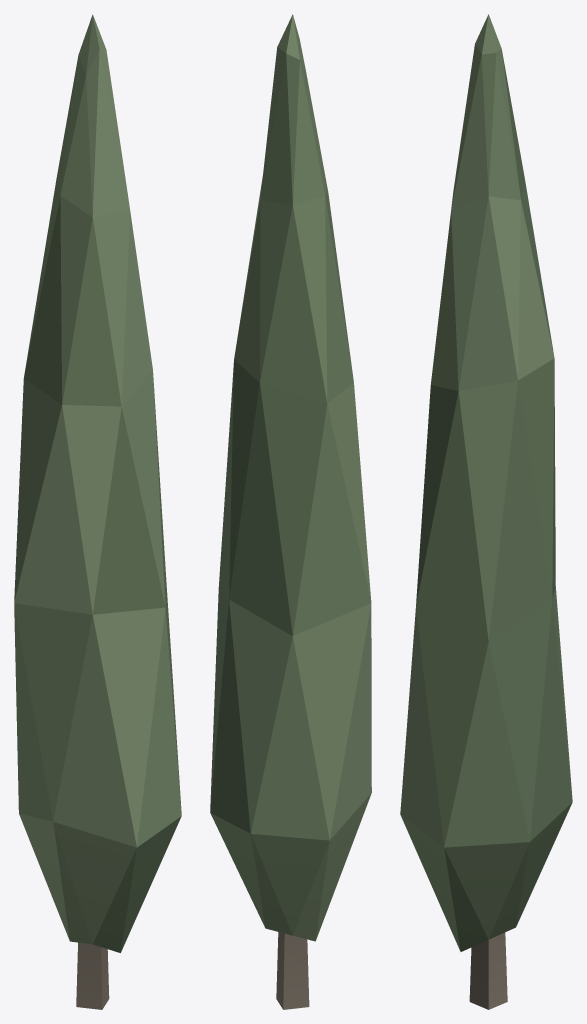
File: cypress.lod1.glb
3 renders of one model, left to right at view 1: azimuth 30°, elevation 25°; view 2: azimuth 150°, elevation 25°; view 3: azimuth 270°, elevation 25°, orthographic.
Size of the model in its own units: 1.29 by 8 by 1.27.
